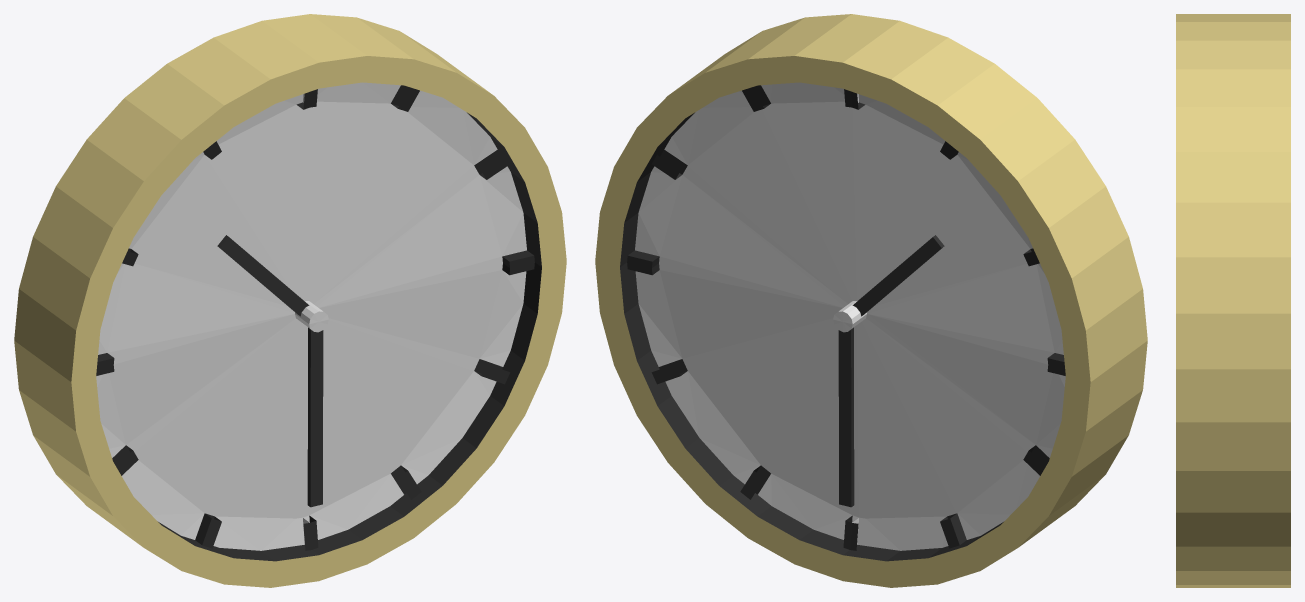
The model's file is Clock.dae.
The picture shows the model from 3 angles, left to right: view 1: azimuth 30°, elevation 25°; view 2: azimuth 150°, elevation 25°; view 3: azimuth 270°, elevation 25°; orthographic projection.
Visible parts, largest first — view 1: Clock, Large Pointer, Small Pointer; view 2: Clock, Large Pointer, Small Pointer; view 3: Clock.
Part boxes in pixels (box(x1,y1,x2,y2)): Clock: box(14, 14, 566, 587); Large Pointer: box(307, 327, 323, 507); Small Pointer: box(217, 235, 309, 316); Clock: box(595, 14, 1147, 587); Large Pointer: box(838, 327, 854, 507); Small Pointer: box(852, 235, 944, 316); Clock: box(1176, 14, 1290, 587).
Size of the model in its own units: 2 by 0.4 by 2.
